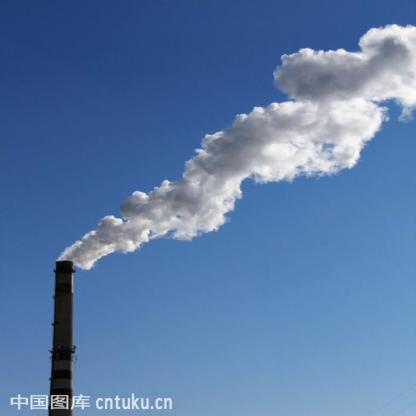smoke: (295, 57, 360, 119), (257, 115, 348, 158), (368, 38, 414, 104), (218, 139, 286, 177), (126, 203, 193, 233), (168, 185, 224, 214), (193, 160, 240, 192), (93, 230, 141, 248), (67, 244, 104, 262)
